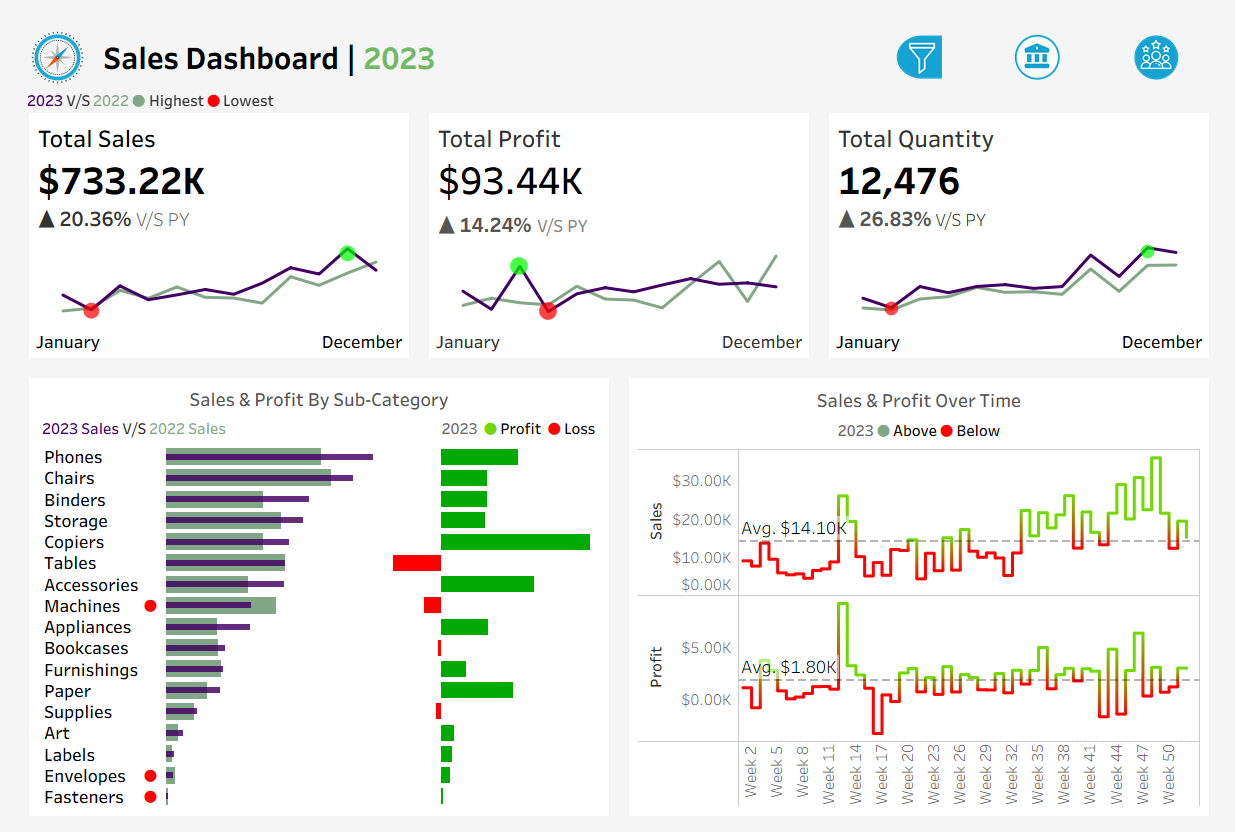

The page's visual inventory and layout, read from the dashboard file:
{"tool":"tableau","page":{"name":"Sales Dashboard","canvas":[1200,800],"ordinal":1},"visuals":[{"type":"image","param":"Image/Icon - Logo.png","box":[0,0,77,62]},{"type":"text","box":[77,0,759,62]},{"type":"dashboard-object","box":[840,4,119,54]},{"type":"dashboard-object","box":[959,4,119,54]},{"type":"dashboard-object","box":[1078,4,118,54]},{"type":"blank","box":[946,6,245,36]},{"type":"text","box":[946,42,245,35]},{"type":"worksheet","title":"KPI Legend","mark":"Automatic","box":[0,62,1200,25]},{"type":"parameter","param":"[Parameters].[Parameter 1]","box":[946,77,245,56]},{"type":"worksheet","title":"KPI Sales","mark":"Automatic","rows":["Calculation_1230642944163847"],"cols":["Order Date"],"box":[0,87,400,255]},{"type":"worksheet","title":"KPI Profit","mark":"Automatic","rows":["Calculation_1230642966593551"],"cols":["Order Date"],"box":[400,87,400,255]},{"type":"worksheet","title":"KPI Quantity","mark":"Automatic","rows":["Calculation_0507164353552395"],"cols":["Order Date"],"box":[800,87,400,255]},{"type":"blank","box":[946,133,245,55]},{"type":"text","box":[946,188,245,35]},{"type":"filter","title":"KPI Sales","param":"[federated.1ie00hv16txxj60ziol7k1jeislt].[none:Category:nk]","box":[946,223,245,65]},{"type":"filter","title":"KPI Sales","param":"[federated.1ie00hv16txxj60ziol7k1jeislt].[none:Sub-Category:nk]","box":[946,288,245,65]},{"type":"blank","box":[946,353,245,61]},{"type":"text","box":[15,357,570,32]},{"type":"text","box":[615,357,570,33]},{"type":"worksheet","title":"Sub Category Legend","mark":"Automatic","box":[15,389,399,27]},{"type":"text","box":[414,389,171,27]},{"type":"text","box":[615,390,570,29]},{"type":"text","box":[946,414,245,35]},{"type":"worksheet","title":"Sub Catrgory Comparison","mark":"Bar","rows":["Sub-Category","Calculation_0507164362162193"],"cols":["Calculation_1230642937712644","Calculation_1230642937425923","Calculation_1230642964152332"],"box":[15,416,570,369]},{"type":"worksheet","title":"Weekly Trends","mark":"Automatic","rows":["Calculation_1230642937425923","Calculation_1230642964152332"],"cols":["Order Date"],"box":[615,419,570,366]},{"type":"filter","title":"KPI Sales","param":"[federated.1ie00hv16txxj60ziol7k1jeislt].[none:City:nk]","box":[946,449,245,65]},{"type":"filter","title":"KPI Sales","param":"[federated.1ie00hv16txxj60ziol7k1jeislt].[none:Region:nk]","box":[946,514,245,65]},{"type":"filter","title":"KPI Sales","param":"[federated.1ie00hv16txxj60ziol7k1jeislt].[none:State:nk]","box":[946,579,245,65]}]}

Visuals, with their boxes in screenshot pixels (x1, y1, x2, y2), scaled from the page's 1200x800 canvas onto the 1235x832 screenshot:
image: [left=0, top=0, right=79, bottom=64]
text: [left=79, top=0, right=860, bottom=64]
dashboard-object: [left=864, top=4, right=987, bottom=60]
dashboard-object: [left=987, top=4, right=1109, bottom=60]
dashboard-object: [left=1109, top=4, right=1231, bottom=60]
blank: [left=974, top=6, right=1226, bottom=44]
text: [left=974, top=44, right=1226, bottom=80]
"KPI Legend" worksheet: [left=0, top=64, right=1234, bottom=90]
parameter: [left=974, top=80, right=1226, bottom=138]
"KPI Sales" worksheet: [left=0, top=90, right=412, bottom=356]
"KPI Profit" worksheet: [left=412, top=90, right=823, bottom=356]
"KPI Quantity" worksheet: [left=823, top=90, right=1234, bottom=356]
blank: [left=974, top=138, right=1226, bottom=196]
text: [left=974, top=196, right=1226, bottom=232]
"KPI Sales" filter: [left=974, top=232, right=1226, bottom=300]
"KPI Sales" filter: [left=974, top=300, right=1226, bottom=367]
blank: [left=974, top=367, right=1226, bottom=431]
text: [left=15, top=371, right=602, bottom=405]
text: [left=633, top=371, right=1220, bottom=406]
"Sub Category Legend" worksheet: [left=15, top=405, right=426, bottom=433]
text: [left=426, top=405, right=602, bottom=433]
text: [left=633, top=406, right=1220, bottom=436]
text: [left=974, top=431, right=1226, bottom=467]
"Sub Catrgory Comparison" worksheet (Bar marks): [left=15, top=433, right=602, bottom=816]
"Weekly Trends" worksheet: [left=633, top=436, right=1220, bottom=816]
"KPI Sales" filter: [left=974, top=467, right=1226, bottom=535]
"KPI Sales" filter: [left=974, top=535, right=1226, bottom=602]
"KPI Sales" filter: [left=974, top=602, right=1226, bottom=670]
